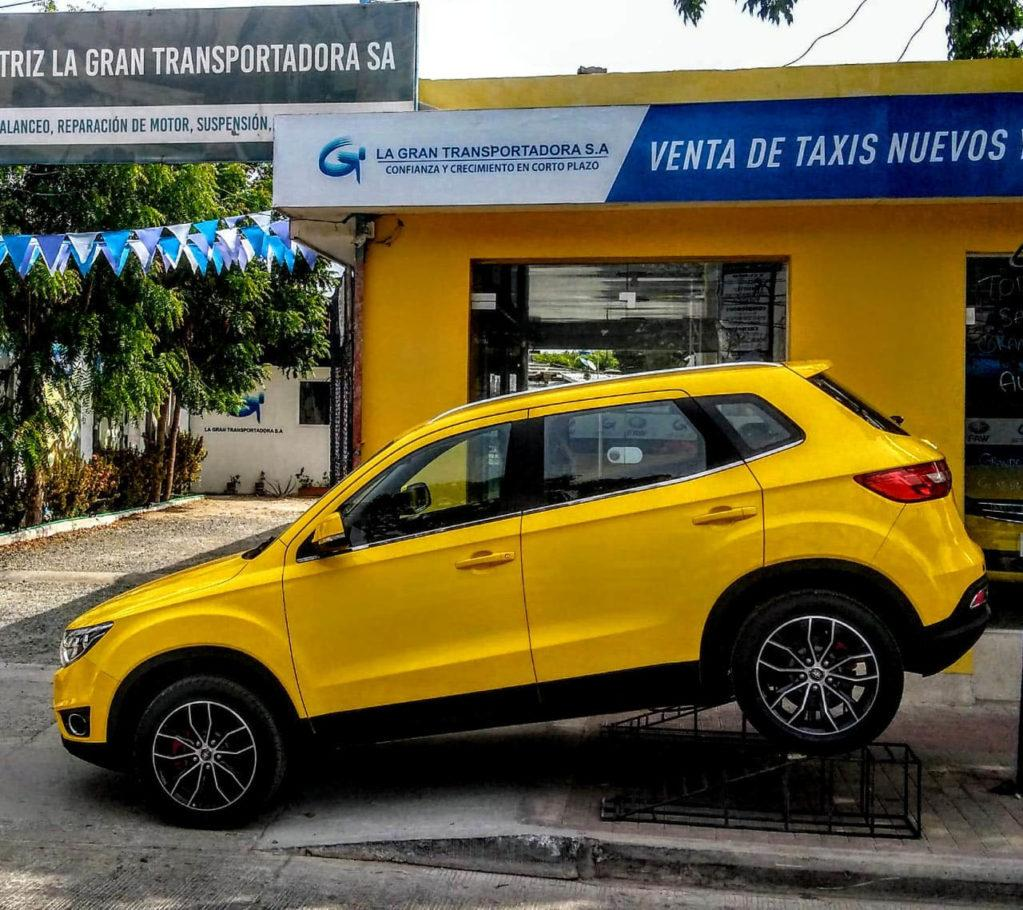taxi: (9, 423, 1023, 773)
